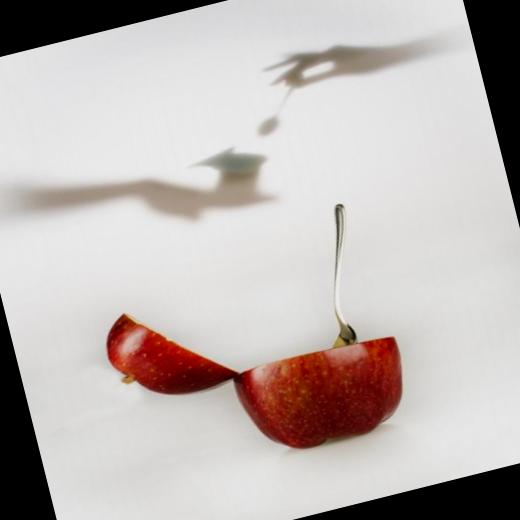Apple: (229, 326, 420, 469), (95, 286, 249, 414)
